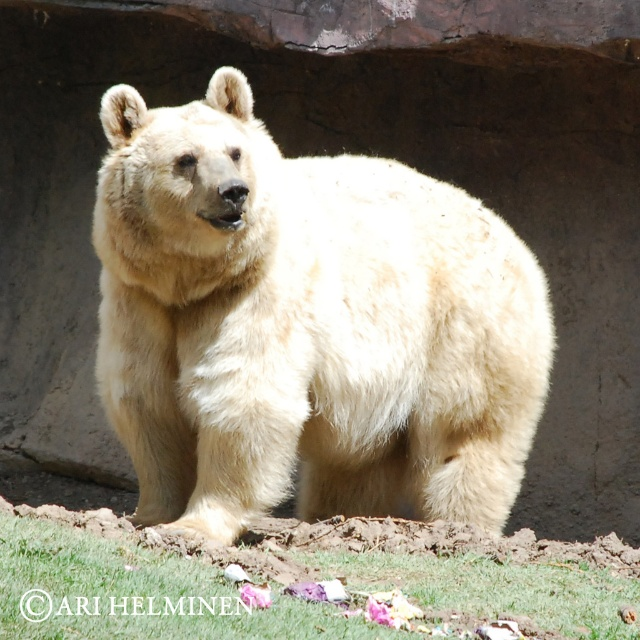Bear: (89, 67, 553, 545)
